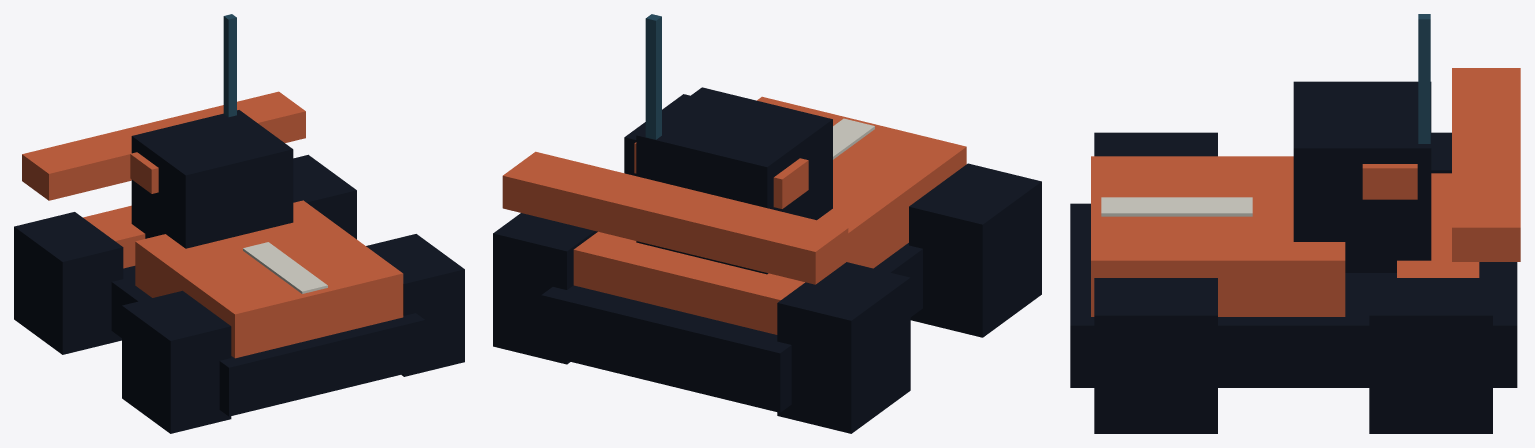
The model's file is kart-fast-4.glb.
3 renders of one model, left to right at view 1: azimuth 30°, elevation 25°; view 2: azimuth 150°, elevation 25°; view 3: azimuth 270°, elevation 25°, orthographic. The views are drawn at different scales.
Parts seen in each view (by area): view 1: Kart; view 2: Kart; view 3: Kart.
Boxes of the visible parts, x1=… form: Kart: x1=14, y1=14, x2=464, y2=433; Kart: x1=493, y1=14, x2=1041, y2=433; Kart: x1=1070, y1=14, x2=1520, y2=433.
Bounding box in the file's own units: 0.63 × 0.565 × 0.655.
